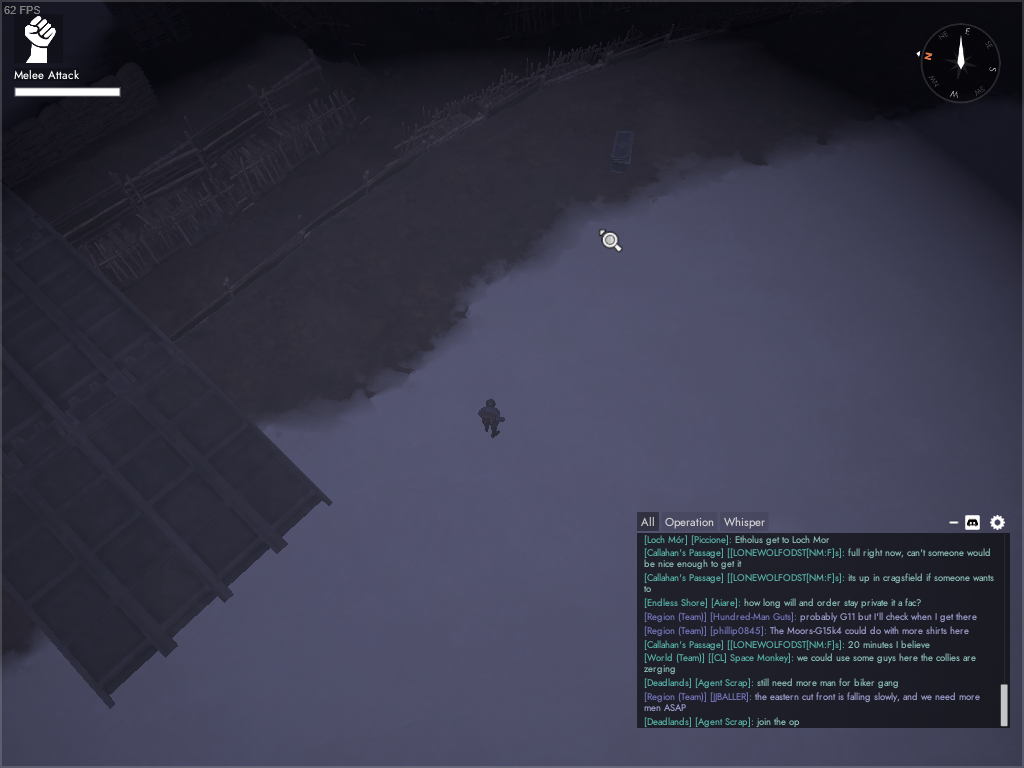player: (477, 398, 506, 438)
storage_box: (609, 129, 635, 174)
